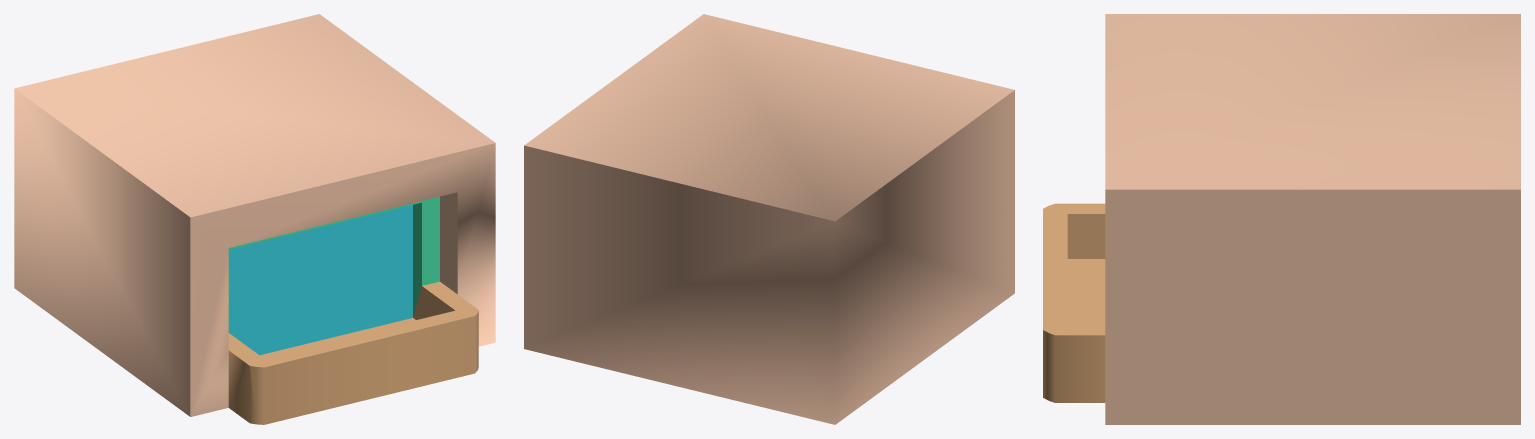
The model's file is BuildingWindowBalcony.fbx.
The picture shows the model from 3 angles, left to right: view 1: azimuth 30°, elevation 25°; view 2: azimuth 150°, elevation 25°; view 3: azimuth 270°, elevation 25°; orthographic projection. The views are drawn at different scales.
Parts seen in each view (by area): view 1: BuildingWindowBalcony; view 2: BuildingWindowBalcony; view 3: BuildingWindowBalcony.
Part boxes in pixels (bbox=[...]): BuildingWindowBalcony: bbox=[14, 14, 495, 424]; BuildingWindowBalcony: bbox=[524, 14, 1014, 424]; BuildingWindowBalcony: bbox=[1043, 14, 1520, 424].
Bounding box in the file's own units: 300 × 188 × 345.
